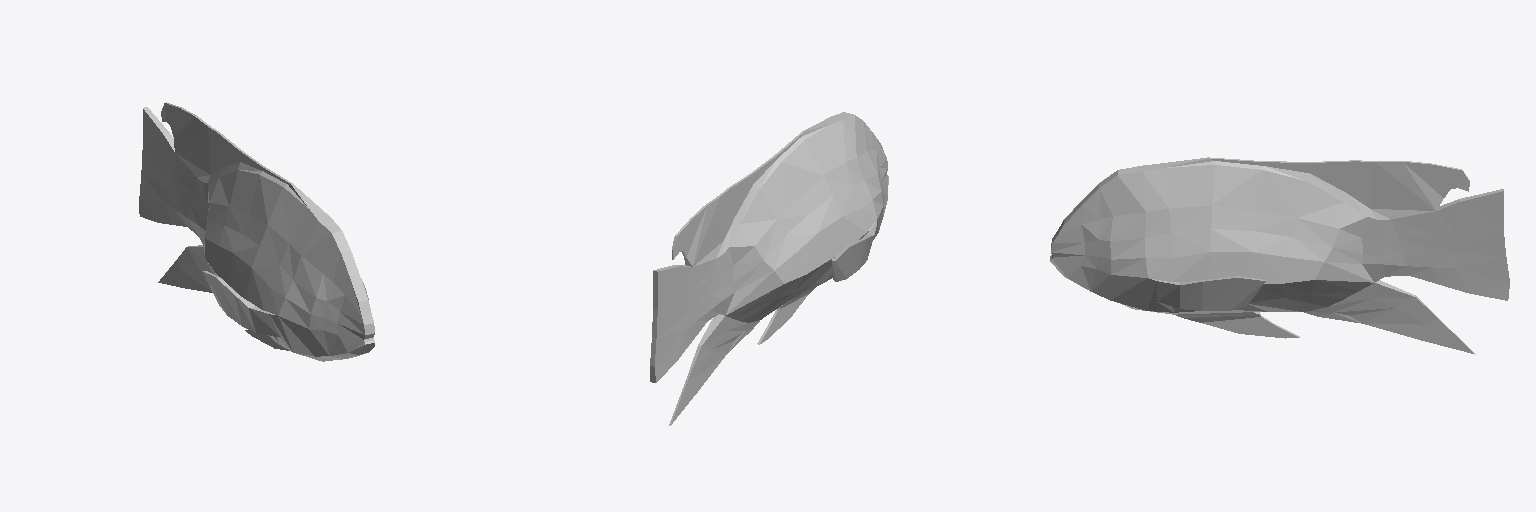
Rendered from fish3.obj.
3 views of the same model, side by side, from view 1: azimuth 30°, elevation 25°; view 2: azimuth 150°, elevation 25°; view 3: azimuth 270°, elevation 25° (orthographic).
Parts seen in each view (by area): view 1: TropicalFish03:TropicalFish03; view 2: TropicalFish03:TropicalFish03; view 3: TropicalFish03:TropicalFish03.
Part boxes in pixels (left/top/right/bottom): TropicalFish03:TropicalFish03: left=139, top=102, right=374, bottom=361; TropicalFish03:TropicalFish03: left=650, top=112, right=888, bottom=425; TropicalFish03:TropicalFish03: left=1050, top=157, right=1509, bottom=354.
Size of the model in its own units: 4.22 by 6.49 by 13.79.